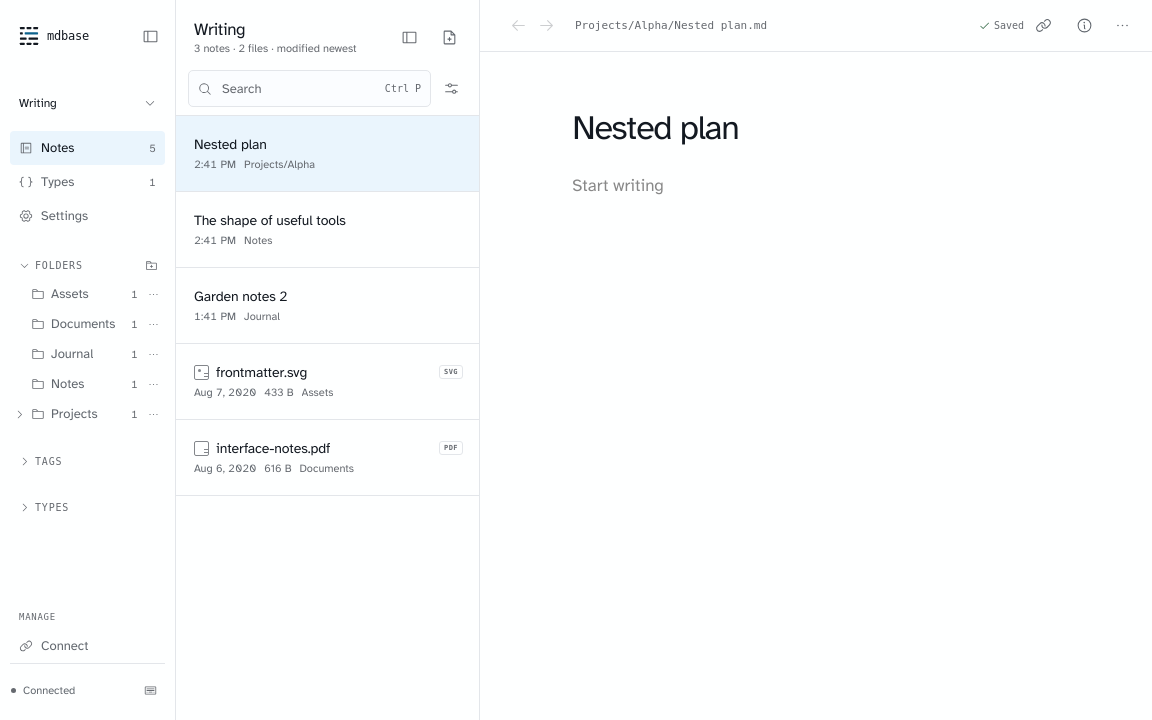
Test case: mdbase editor › reveals nested folders on demand and remembers their disclosure state
Expected: the heading "Writing" is shown, top-left (194, 19), bottom-right (245, 40)
What coordinates should you click on to do the following:
click the button named "Expand Projects"
I would click on:
 (19, 414)
Its box is top-left (10, 400), bottom-right (28, 428).
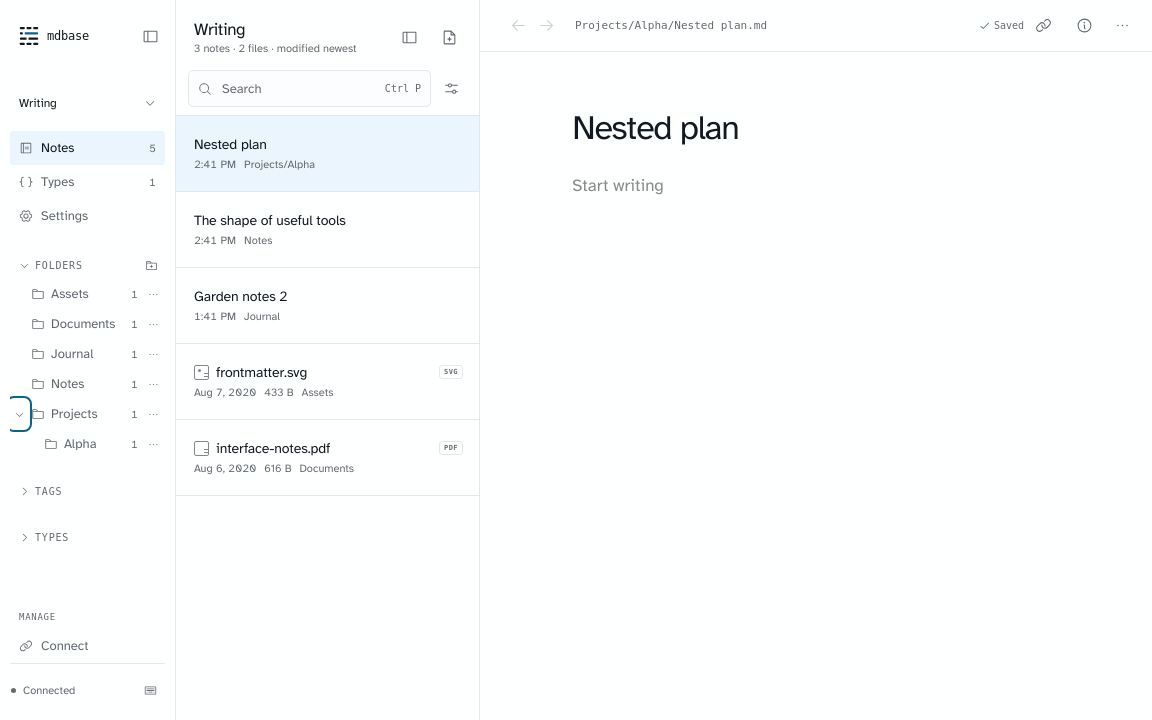
What coordinates should you click on to do the following:
click the button with aria-label "Show notes in Projects/Alpha,"
I would click on:
 (91, 444)
Its box is top-left (41, 429), bottom-right (141, 459).
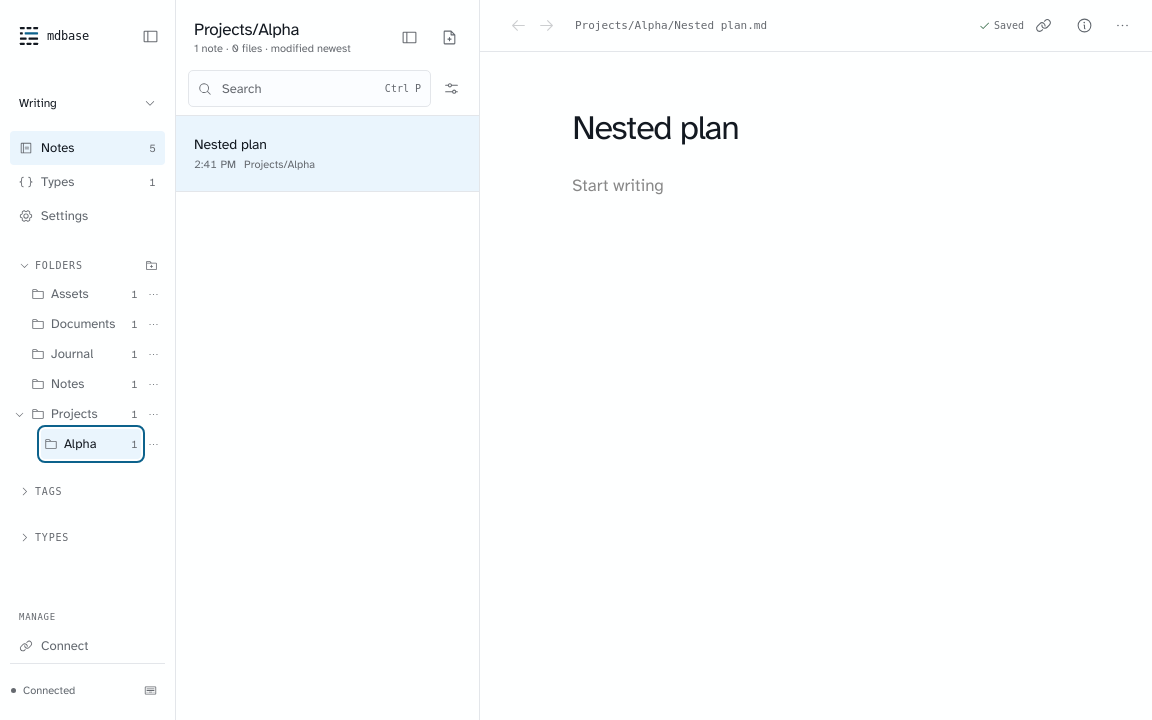
Expected: the heading "Projects/Alpha" is shown, top-left (194, 19), bottom-right (299, 40)
Expected: the number of options is 1, top-left (176, 116), bottom-right (479, 192)
